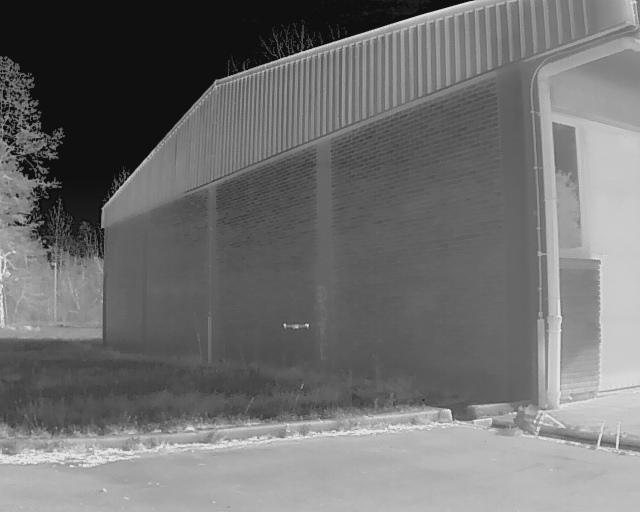drone: (270, 317, 312, 337)
